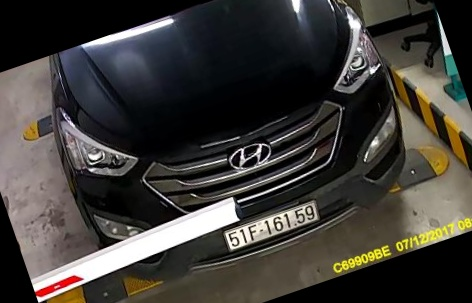plate: (211, 197, 325, 258)
